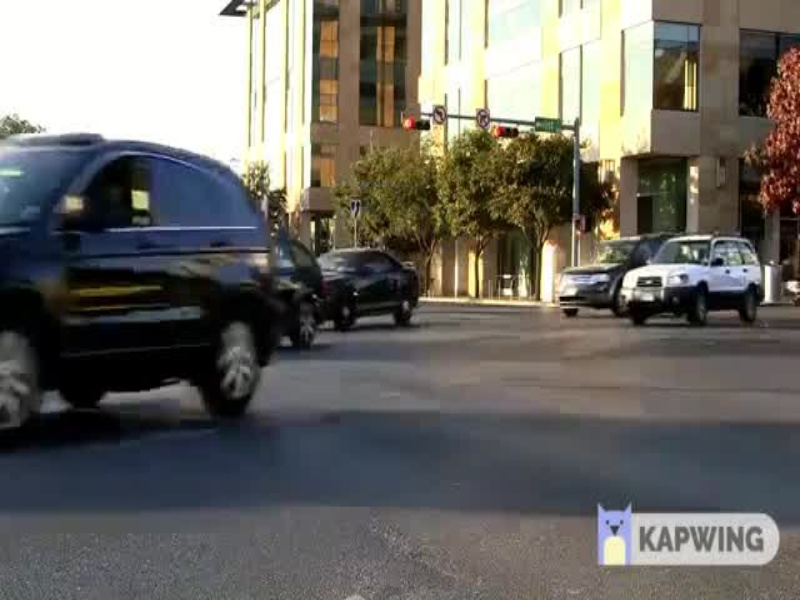car: (1, 122, 285, 432), (610, 230, 767, 337)
